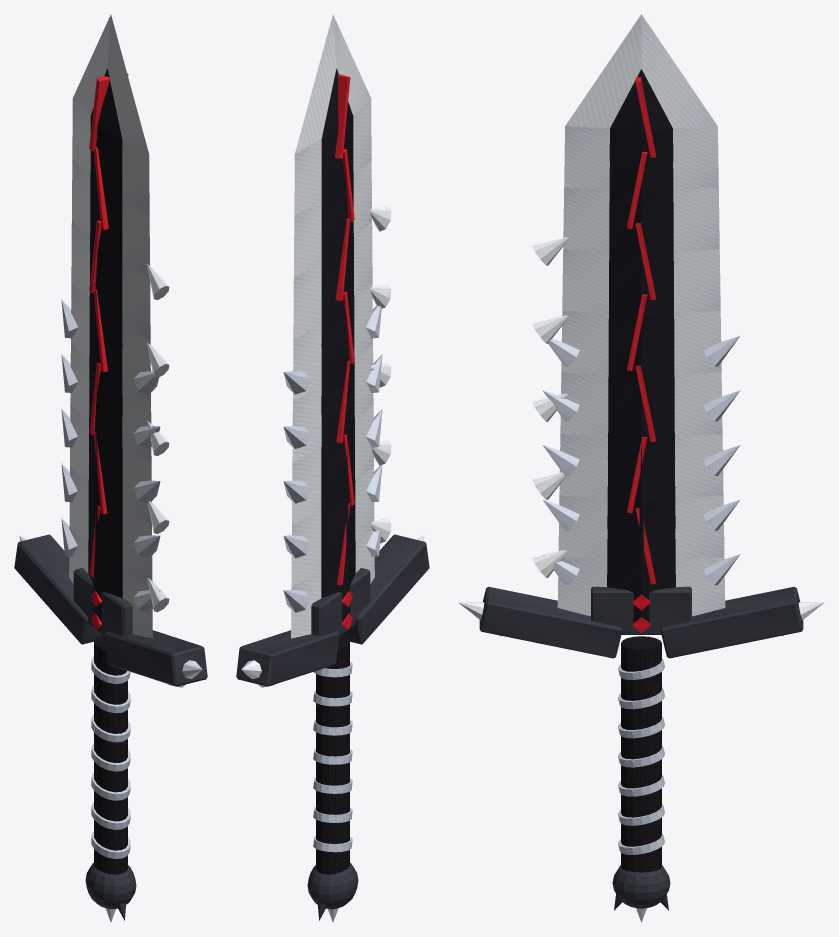
Rendered from Devourer.fbx.
3 renders of one model, left to right at view 1: azimuth 30°, elevation 25°; view 2: azimuth 150°, elevation 25°; view 3: azimuth 270°, elevation 25°, orthographic.
Visible parts, largest first — view 1: Devourer; view 2: Devourer; view 3: Devourer.
Boxes of the visible parts, x1,y1,x2,y2 form: Devourer: (14, 14, 207, 922); Devourer: (236, 14, 429, 922); Devourer: (458, 14, 824, 922).
Bounding box in the file's own units: 44.01 × 932 × 341.
1 material, 1 textured.
